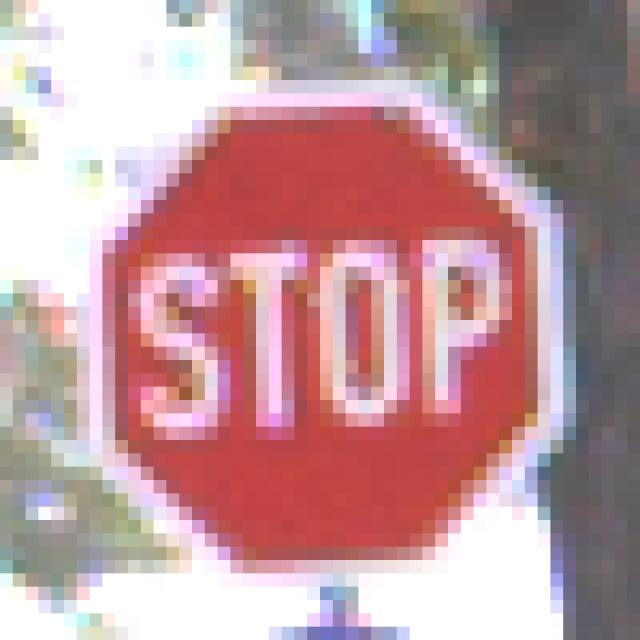STOP: (65, 68, 577, 574)
